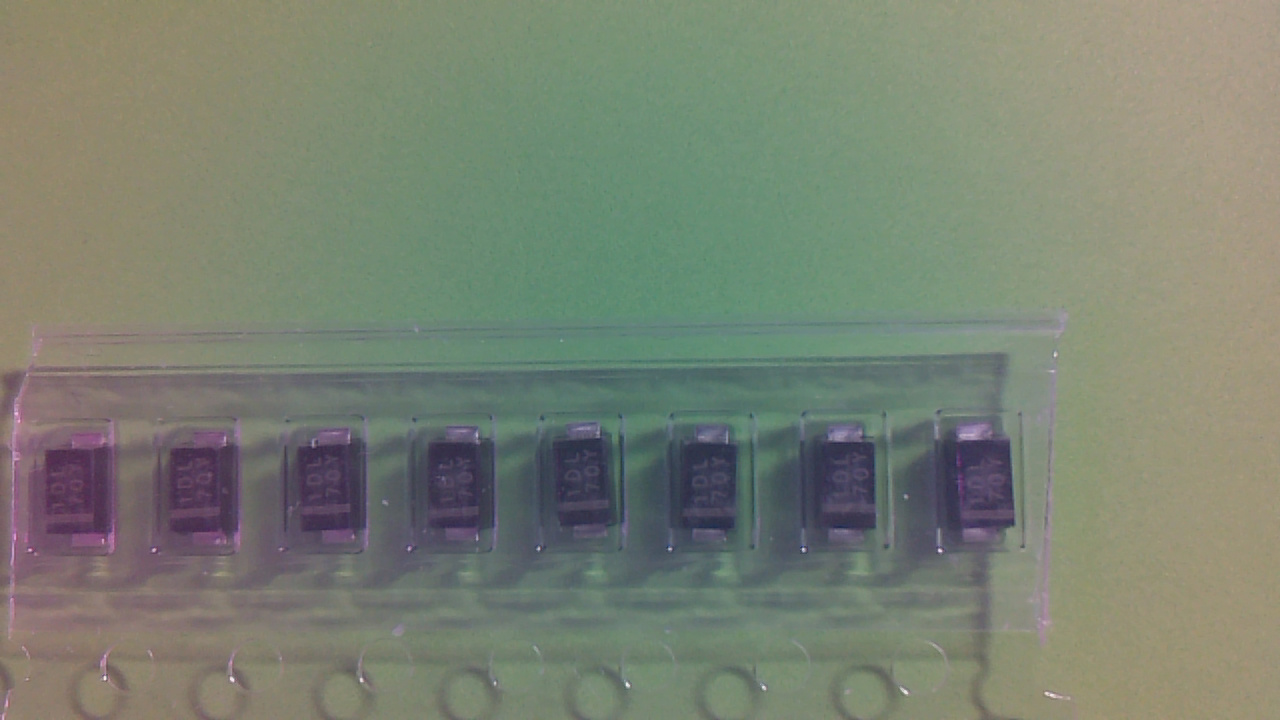Diode: (47, 438, 129, 554), (173, 433, 250, 549), (946, 429, 1019, 550), (433, 436, 502, 555), (300, 437, 369, 553), (556, 430, 624, 546), (821, 430, 886, 551), (683, 432, 751, 545)
